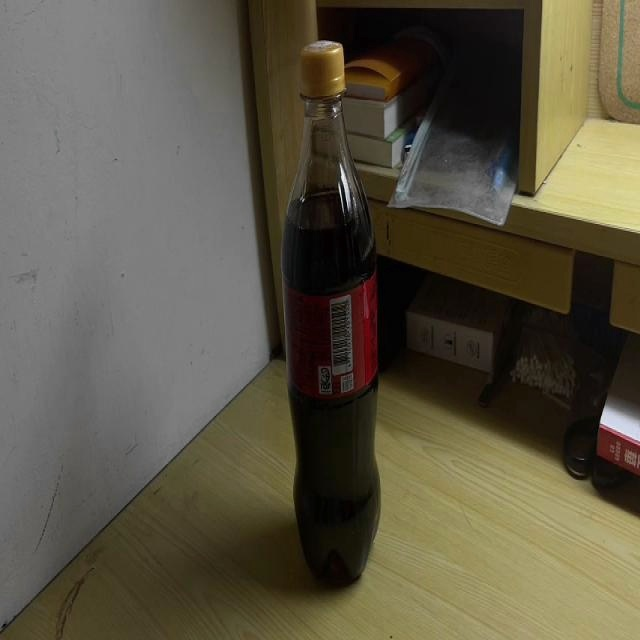Coca-Cola: (282, 44, 382, 588)
